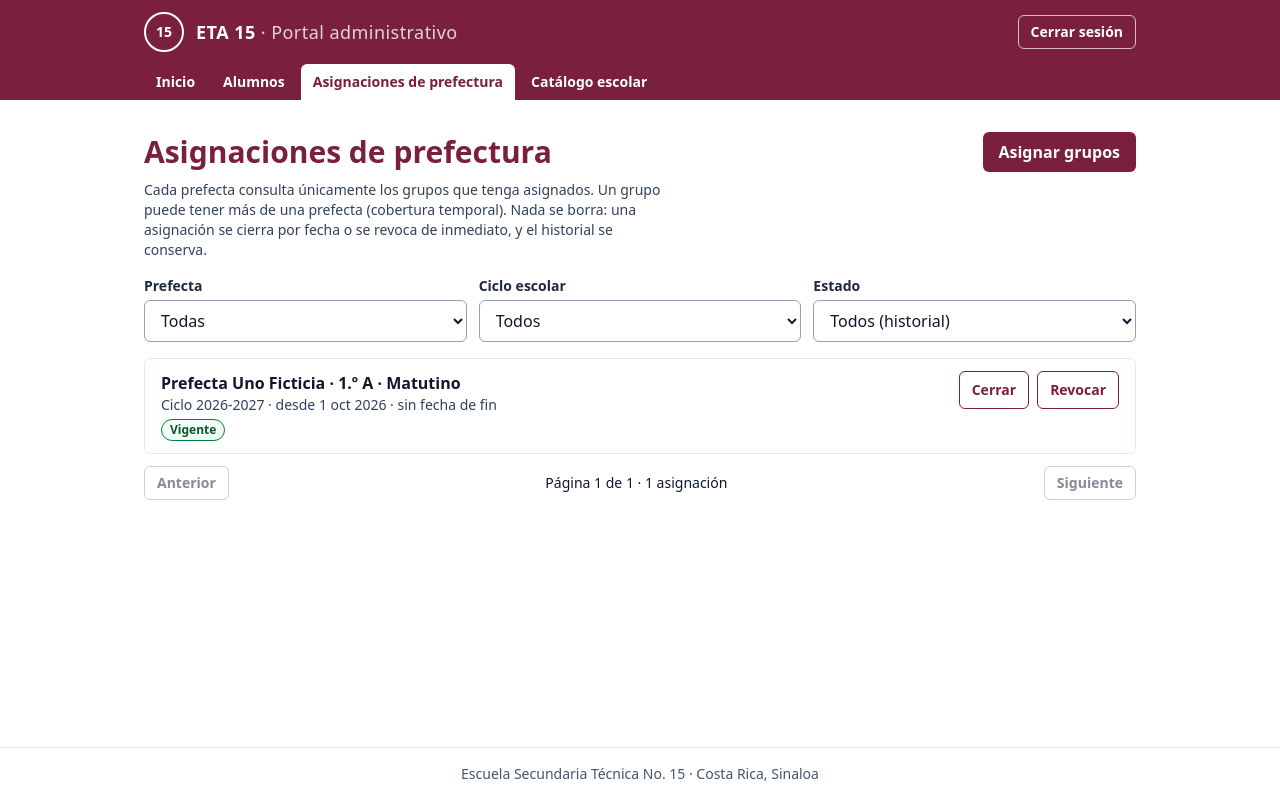
Test: asignar grupos › valida fechas: fin anterior al inicio y fuera del ciclo
Click the button "Asignar grupos".
click(1059, 152)  # box [982,132,1136,172]
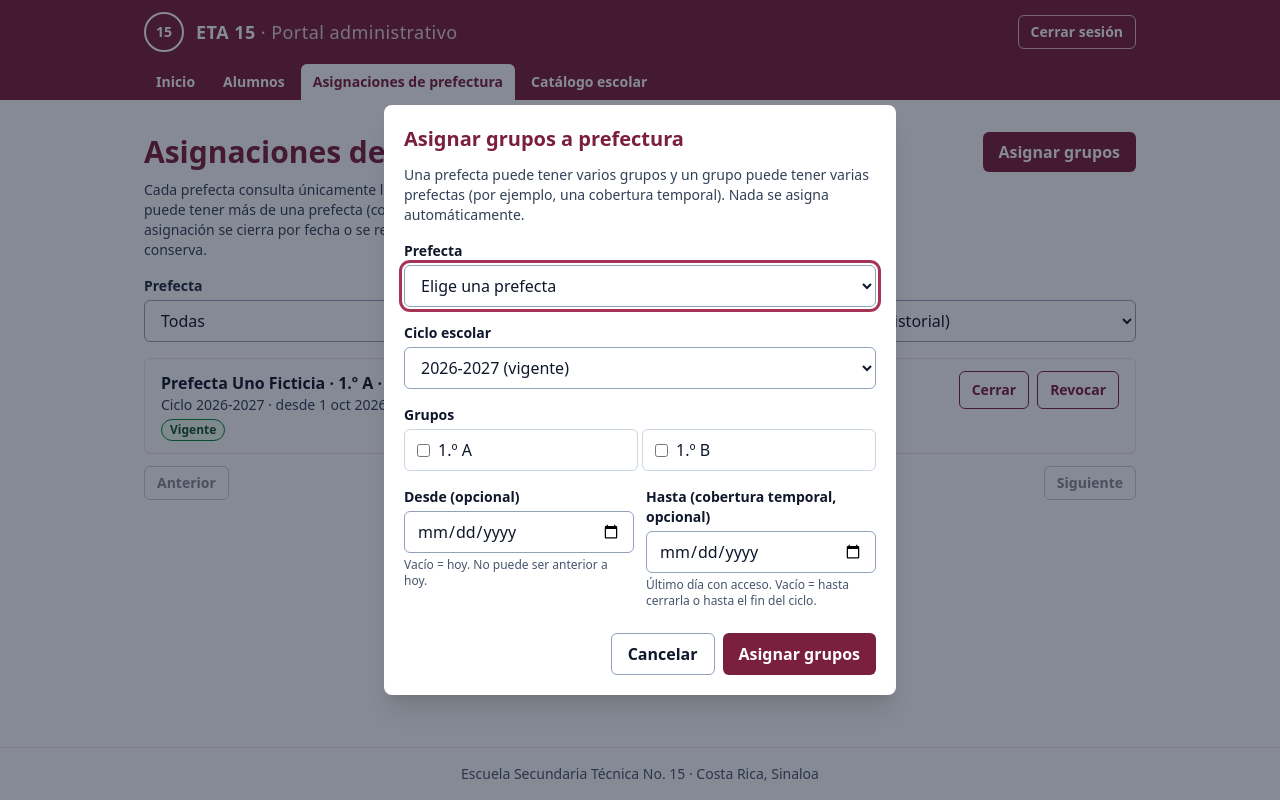
Select "Prefecta Uno Ficticia · uno@escuela.test" in the dropdown labelled "Prefecta" at (640, 286), box [404,265,876,307]
Click the checkbox labelled "1.º A".
click(424, 450)  # box [417,444,430,456]
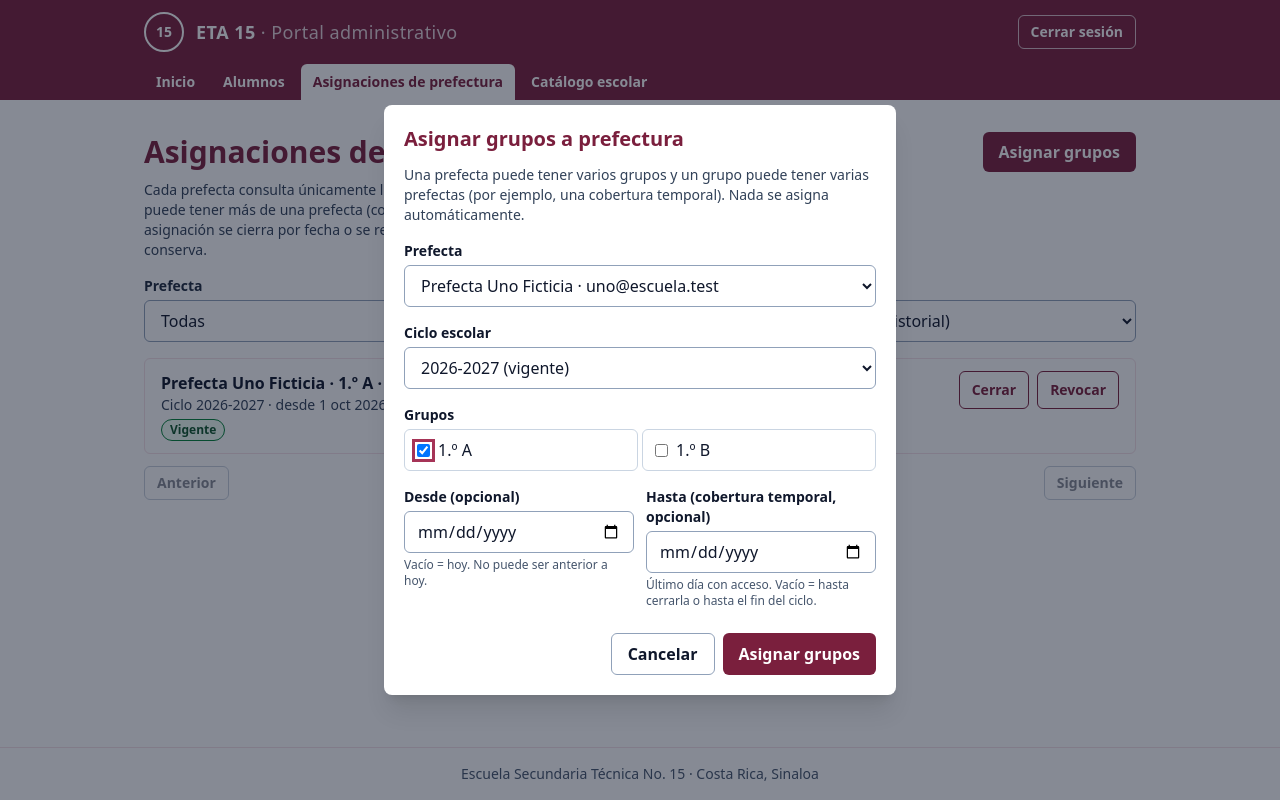
Type "2026-10-10" into the date field labelled "Desde (opcional)".
click(519, 532); type("2026-10-10")  # box [404,511,634,553]
Type "2026-10-05" into the date field labelled "Hasta (cobertura temporal, opcional)".
click(761, 552); type("2026-10-05")  # box [646,531,876,573]
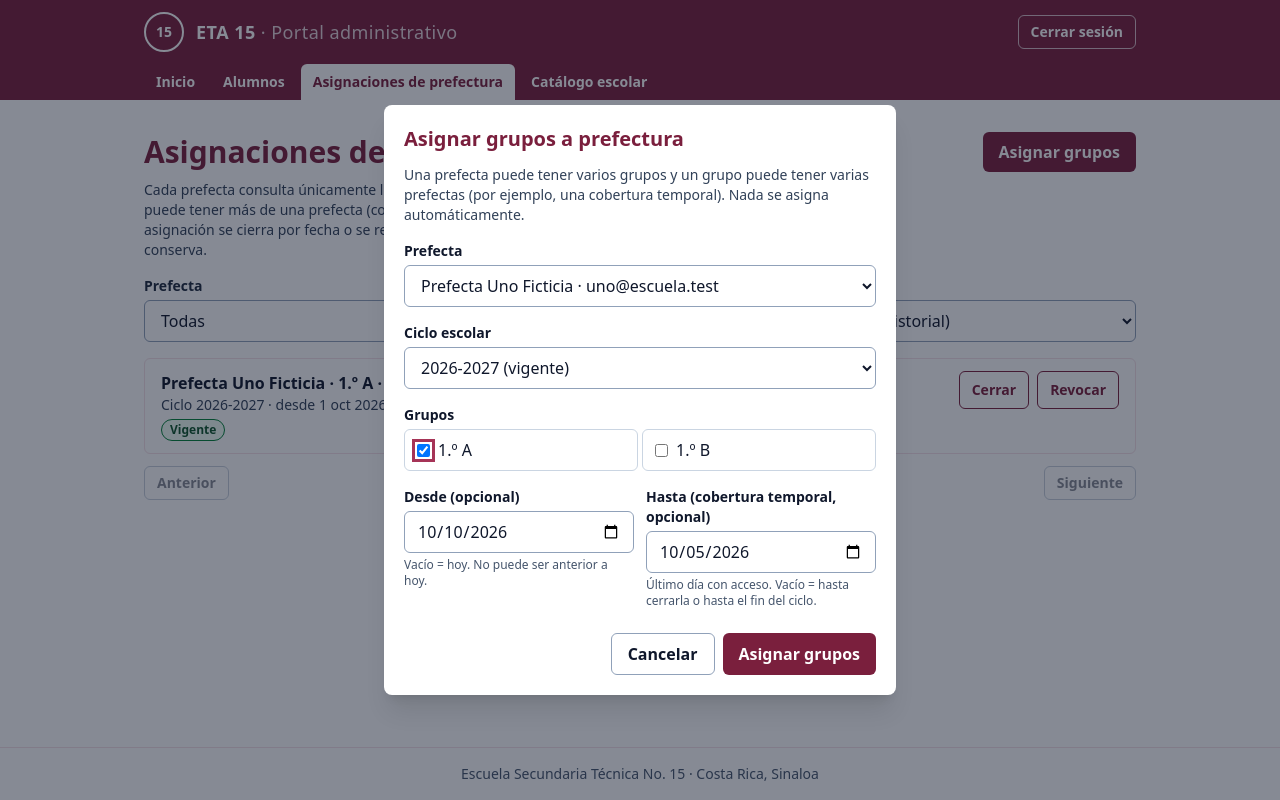
Click the button "Asignar grupos".
click(799, 654)  # box [722,633,876,675]
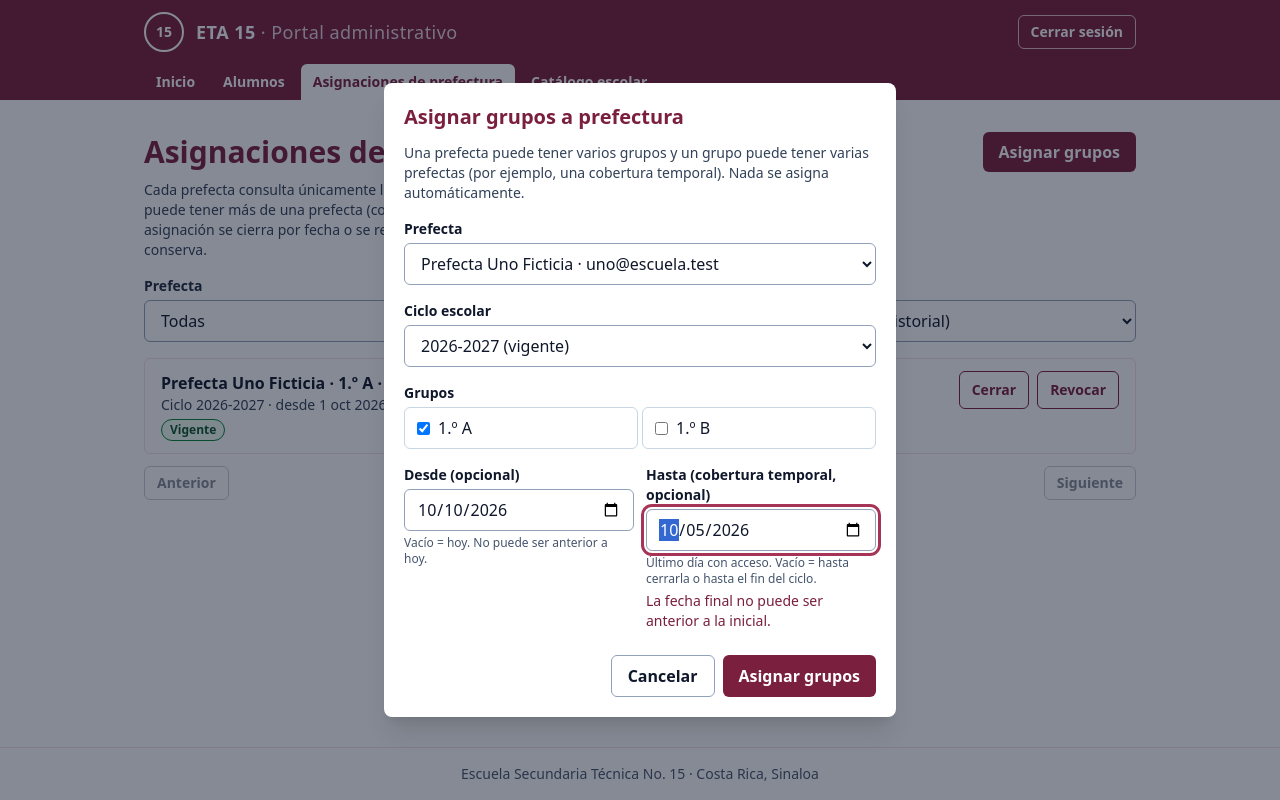
Check: the text "La fecha final no puede ser anterior a la inicial." is shown, box [646,591,823,630]
Type "2028-01-01" into the date field labelled "Desde (opcional)".
click(519, 510); type("2028-01-01")  # box [404,489,634,531]
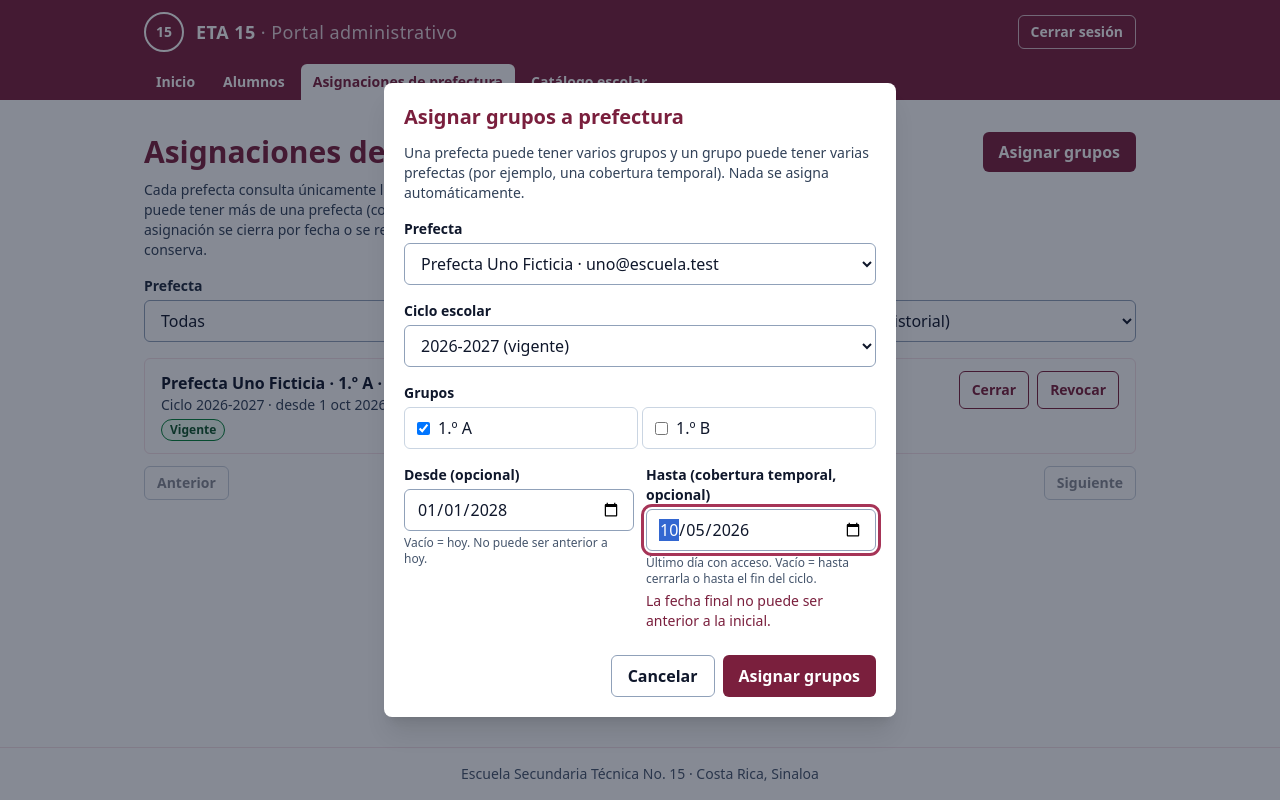
Click the button "Asignar grupos".
click(799, 676)  # box [722,655,876,697]
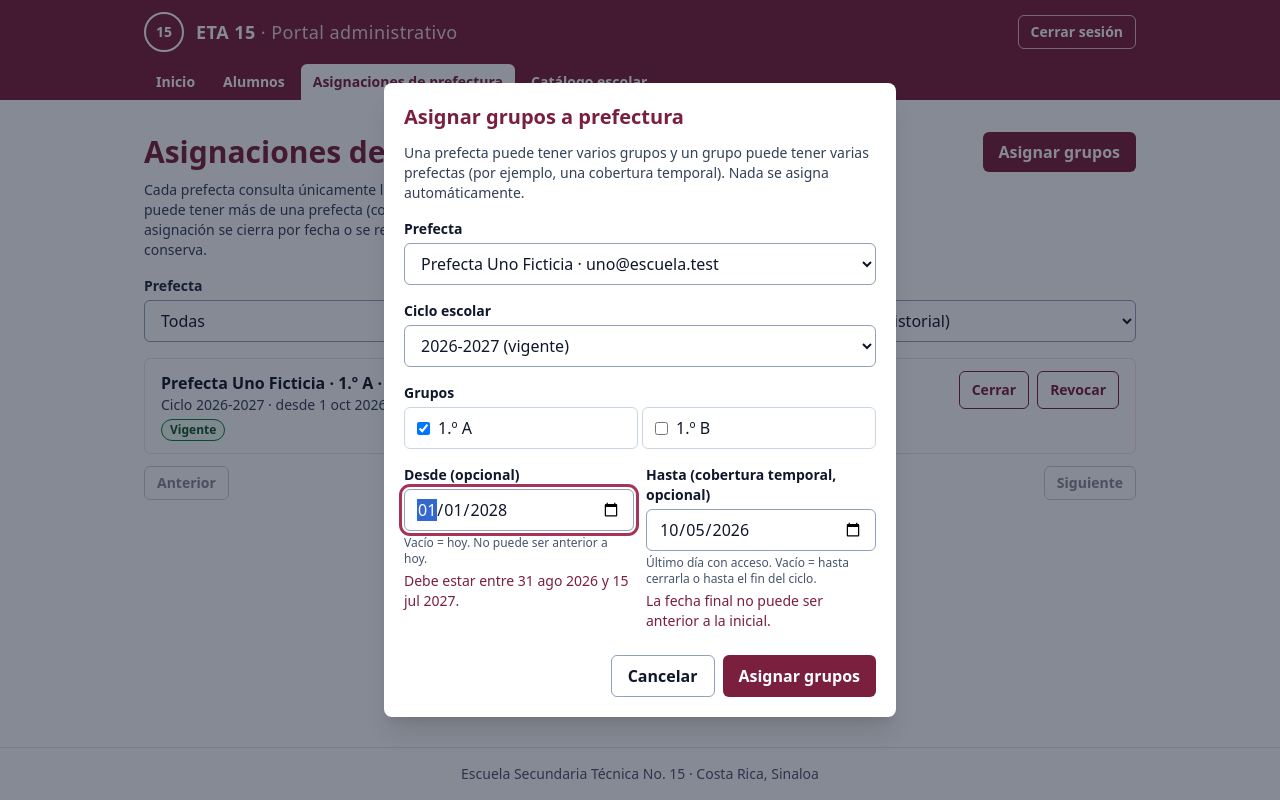
Check: the text "Debe estar entre 31 ago 2026 y 15 jul 2027." is shown, box [404,571,634,611]
